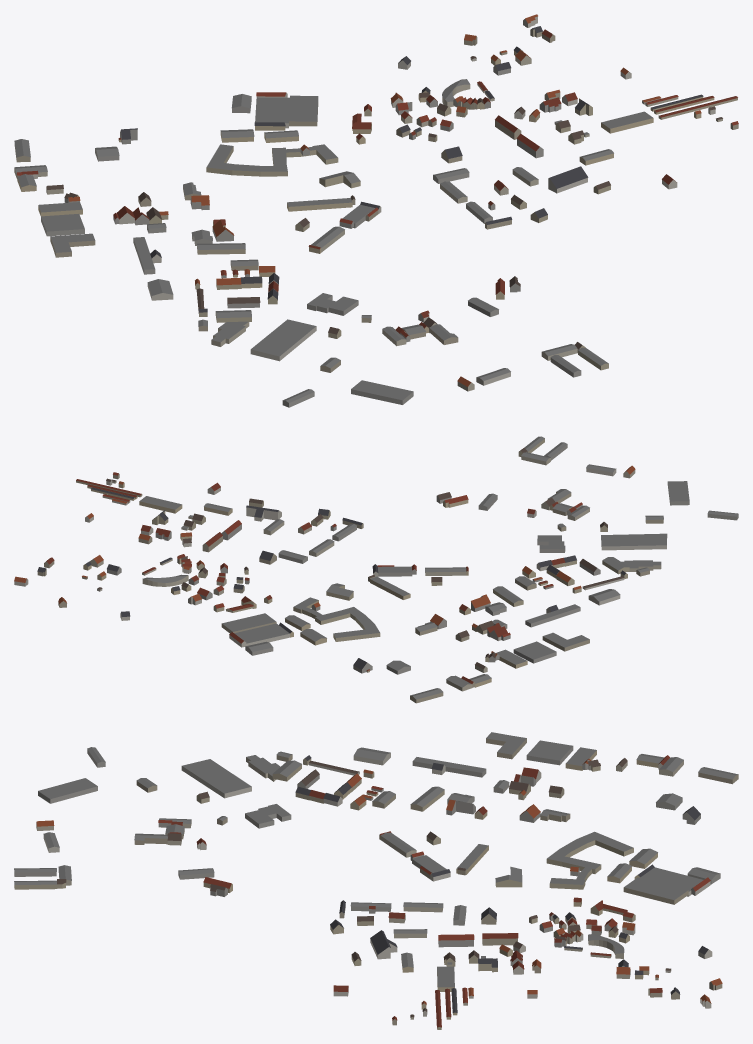
The picture shows the model from 3 angles, top to bottom: view 1: azimuth 30°, elevation 25°; view 2: azimuth 150°, elevation 25°; view 3: azimuth 270°, elevation 25°; orthographic projection. The views are drawn at different scales.
Visible parts, largest first — view 1: buildings; view 2: buildings; view 3: buildings.
Part boxes in pixels (x1,y1,x2,y2): buildings: (14,14,738,407); buildings: (14,436,738,703); buildings: (14,732,738,1029).
Bounding box in the file's own units: 855 × 47.21 × 842.
